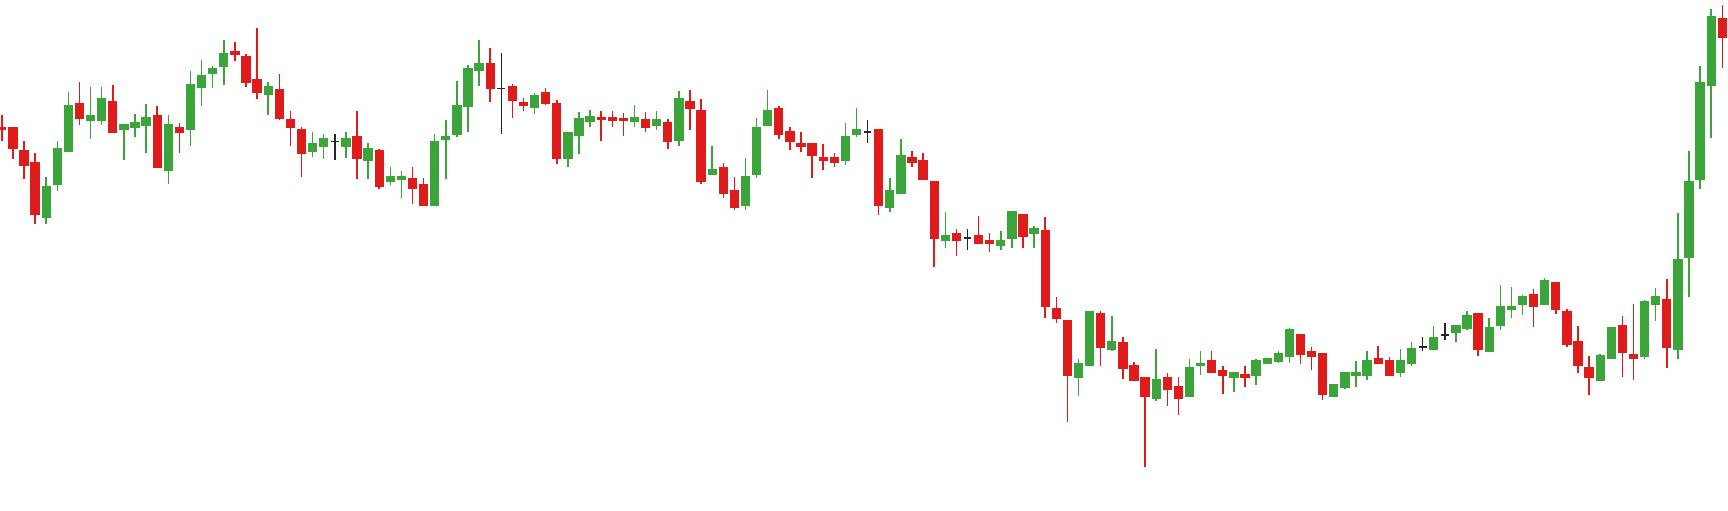buy: (1475, 317, 1617, 396)
